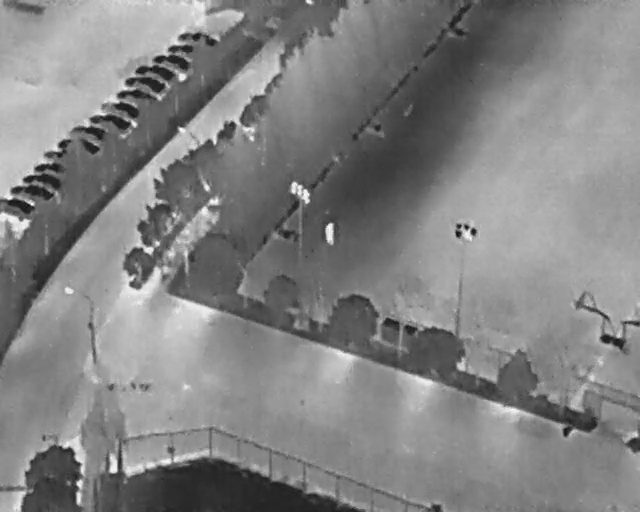Car: (8, 178, 58, 209), (131, 58, 180, 89), (121, 69, 168, 99), (85, 108, 134, 136), (20, 168, 66, 196), (175, 25, 221, 53), (112, 83, 159, 110), (148, 47, 193, 75), (97, 94, 143, 121), (64, 119, 110, 144), (55, 134, 100, 159), (0, 197, 35, 224), (29, 156, 68, 180), (42, 145, 75, 166), (163, 40, 198, 58)
Person: (325, 220, 336, 247)
